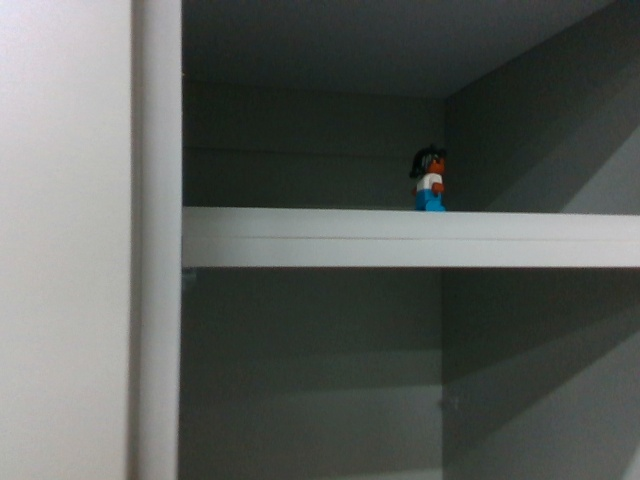people: (407, 147, 451, 217)
